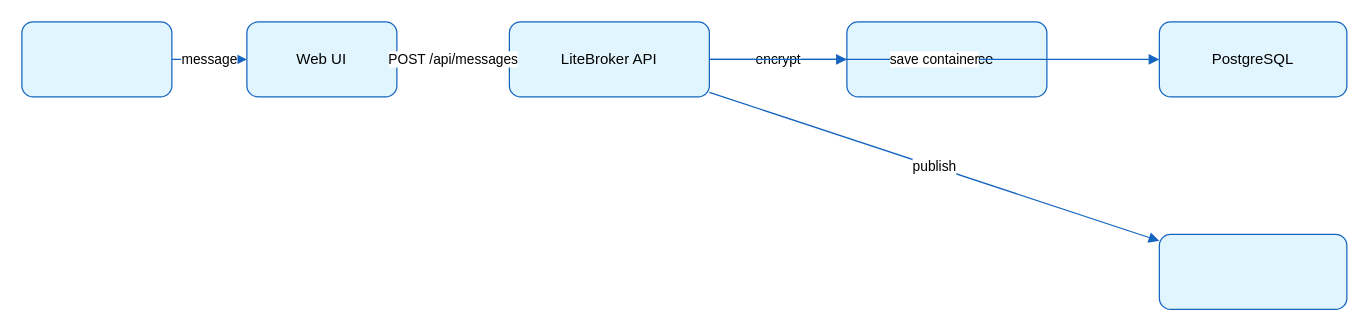
Some shapes in this 1369 by 331 pixel diagram are drawn without their labels. The shapes that lost their labels are listed below. From the top down, each one's box as (x1, y1, x2, y2) in pixels, then its label:
(21, 21, 172, 97): User
(1158, 233, 1347, 309): Kafka
